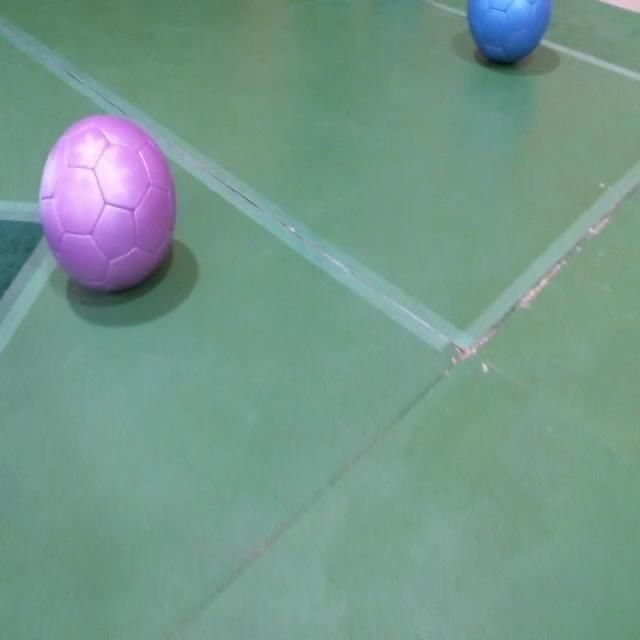blue_ball: (465, 0, 553, 65)
purple_ball: (37, 114, 177, 296)
